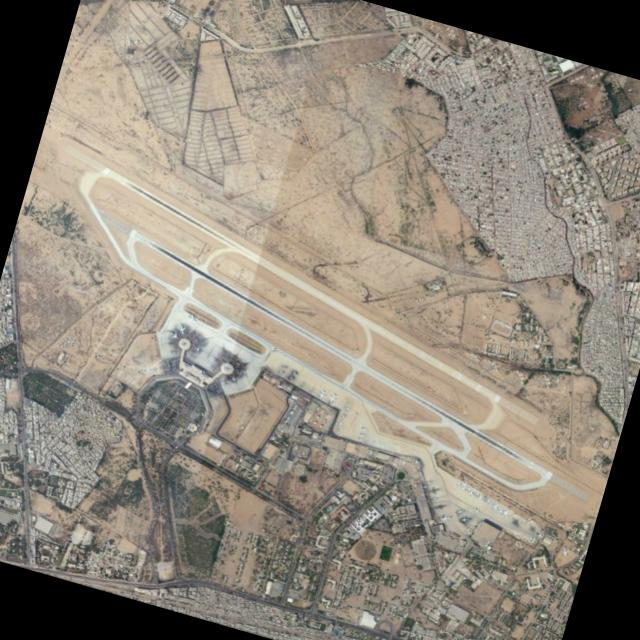plane: (167, 327, 181, 342), (325, 391, 338, 404), (314, 387, 328, 399), (437, 512, 452, 523), (498, 505, 511, 517), (533, 528, 545, 539), (557, 544, 569, 555), (175, 323, 187, 333)
